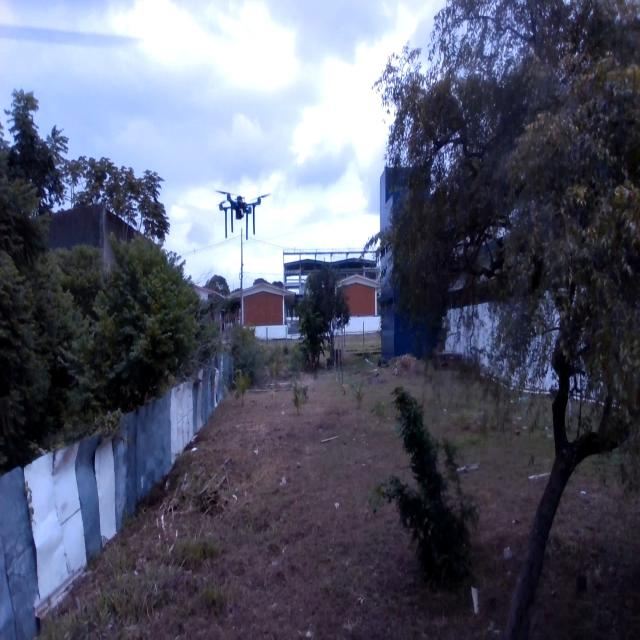-uav-: (212, 184, 273, 244)
